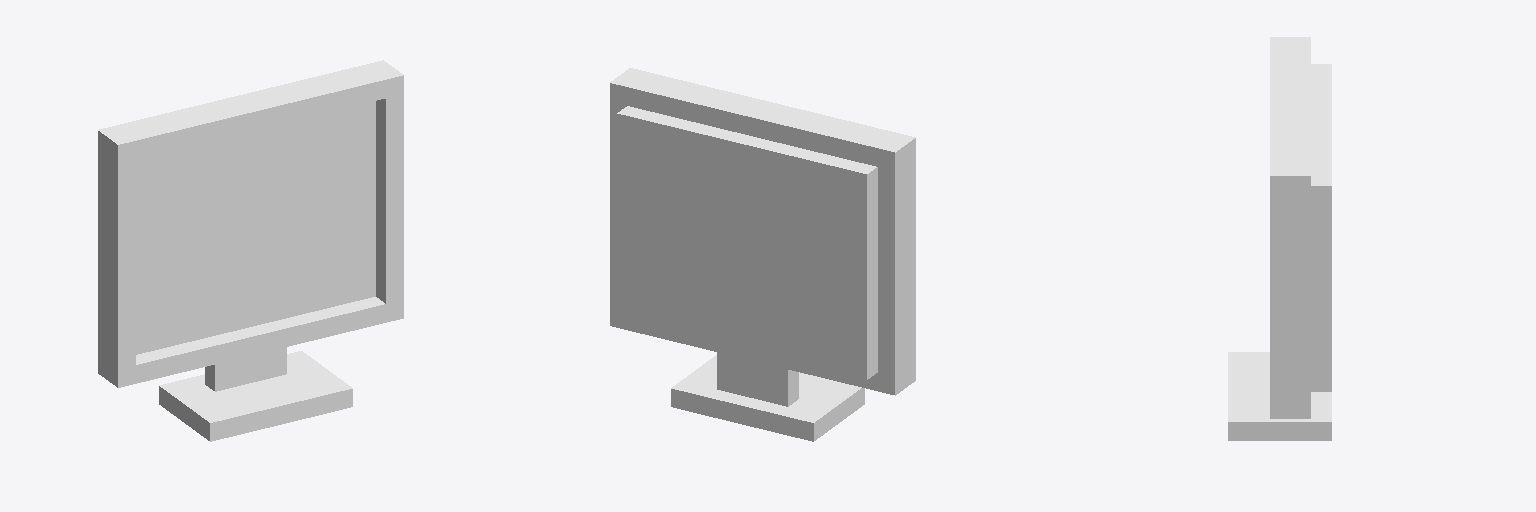
Rendered from monitor.obj.
The picture shows the model from 3 angles: view 1: azimuth 30°, elevation 25°; view 2: azimuth 150°, elevation 25°; view 3: azimuth 270°, elevation 25°; orthographic projection.
Bounding box in the file's own units: 0.8 × 0.8 × 0.25.